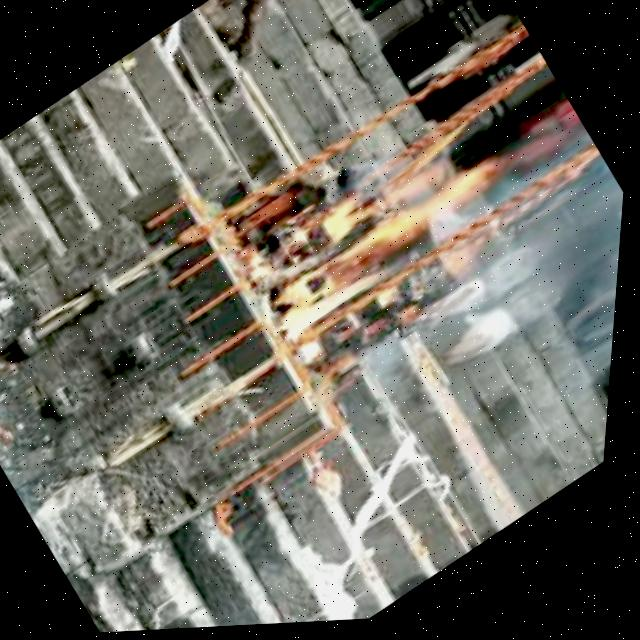Fire: (243, 121, 529, 365)
